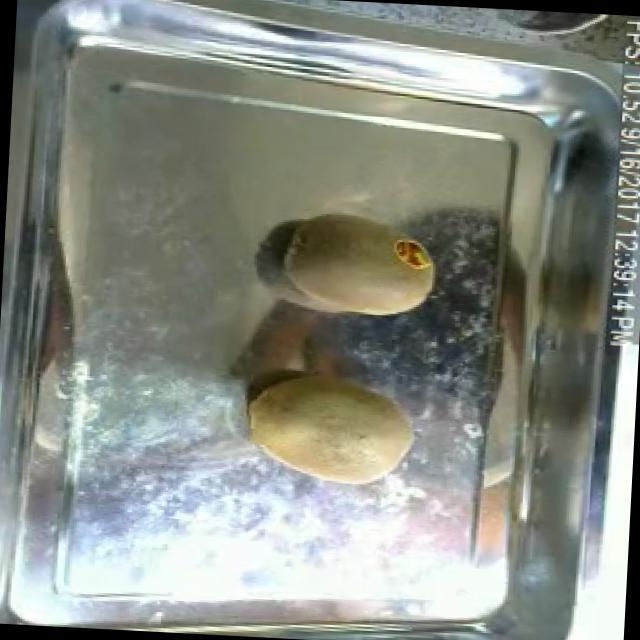Fruit: (234, 358, 427, 498), (268, 198, 448, 330)
